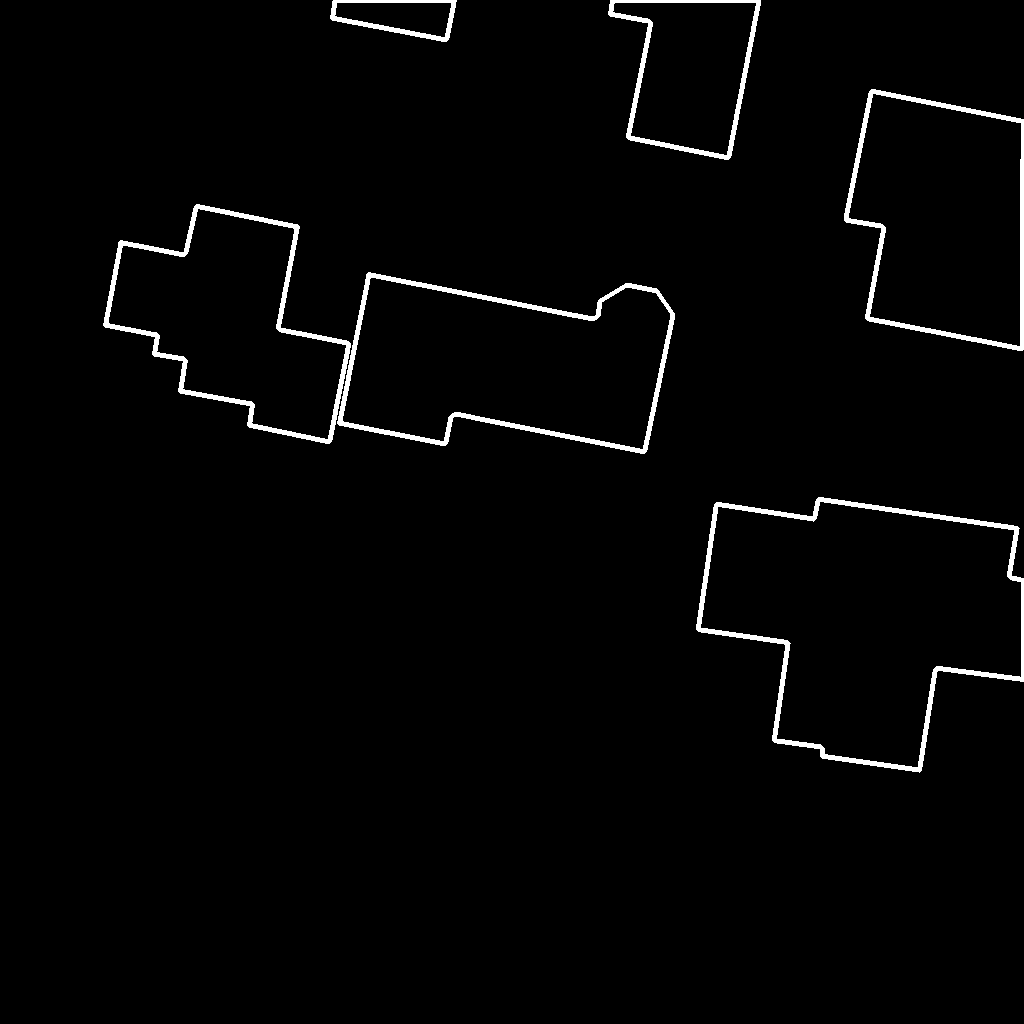building: (698, 499, 1024, 771), (339, 274, 674, 453), (105, 206, 350, 443), (846, 91, 1024, 350), (610, 0, 760, 159), (332, 0, 456, 41)
